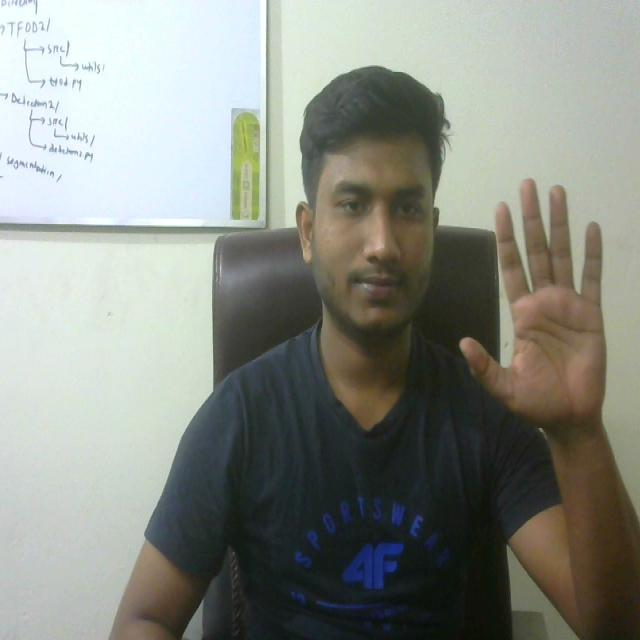Hello: (448, 167, 630, 450)
